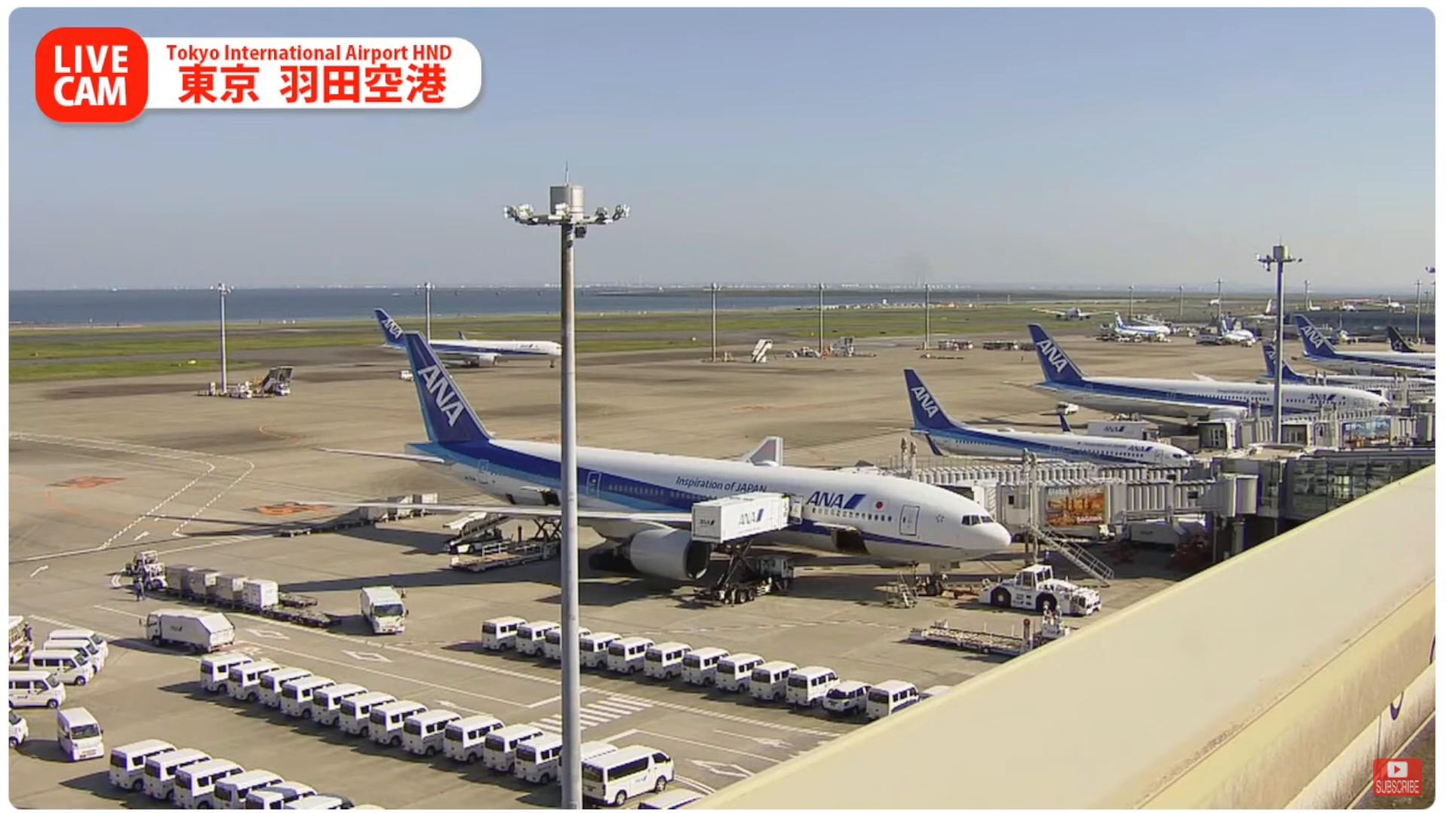APS: (982, 565, 1107, 615)
Aerobridge: (880, 463, 1198, 520), (990, 479, 1258, 539)
Airplane: (308, 328, 1018, 599)
Baggage truck: (144, 609, 241, 659), (356, 588, 412, 644)
Catering: (686, 489, 792, 606)
Dolly: (162, 563, 348, 636), (273, 486, 442, 537)
JCPL: (903, 609, 1073, 659), (480, 504, 562, 572)
Skyloader: (444, 505, 507, 558)
Tractor: (128, 549, 162, 590)
Window: (1281, 462, 1437, 524)
